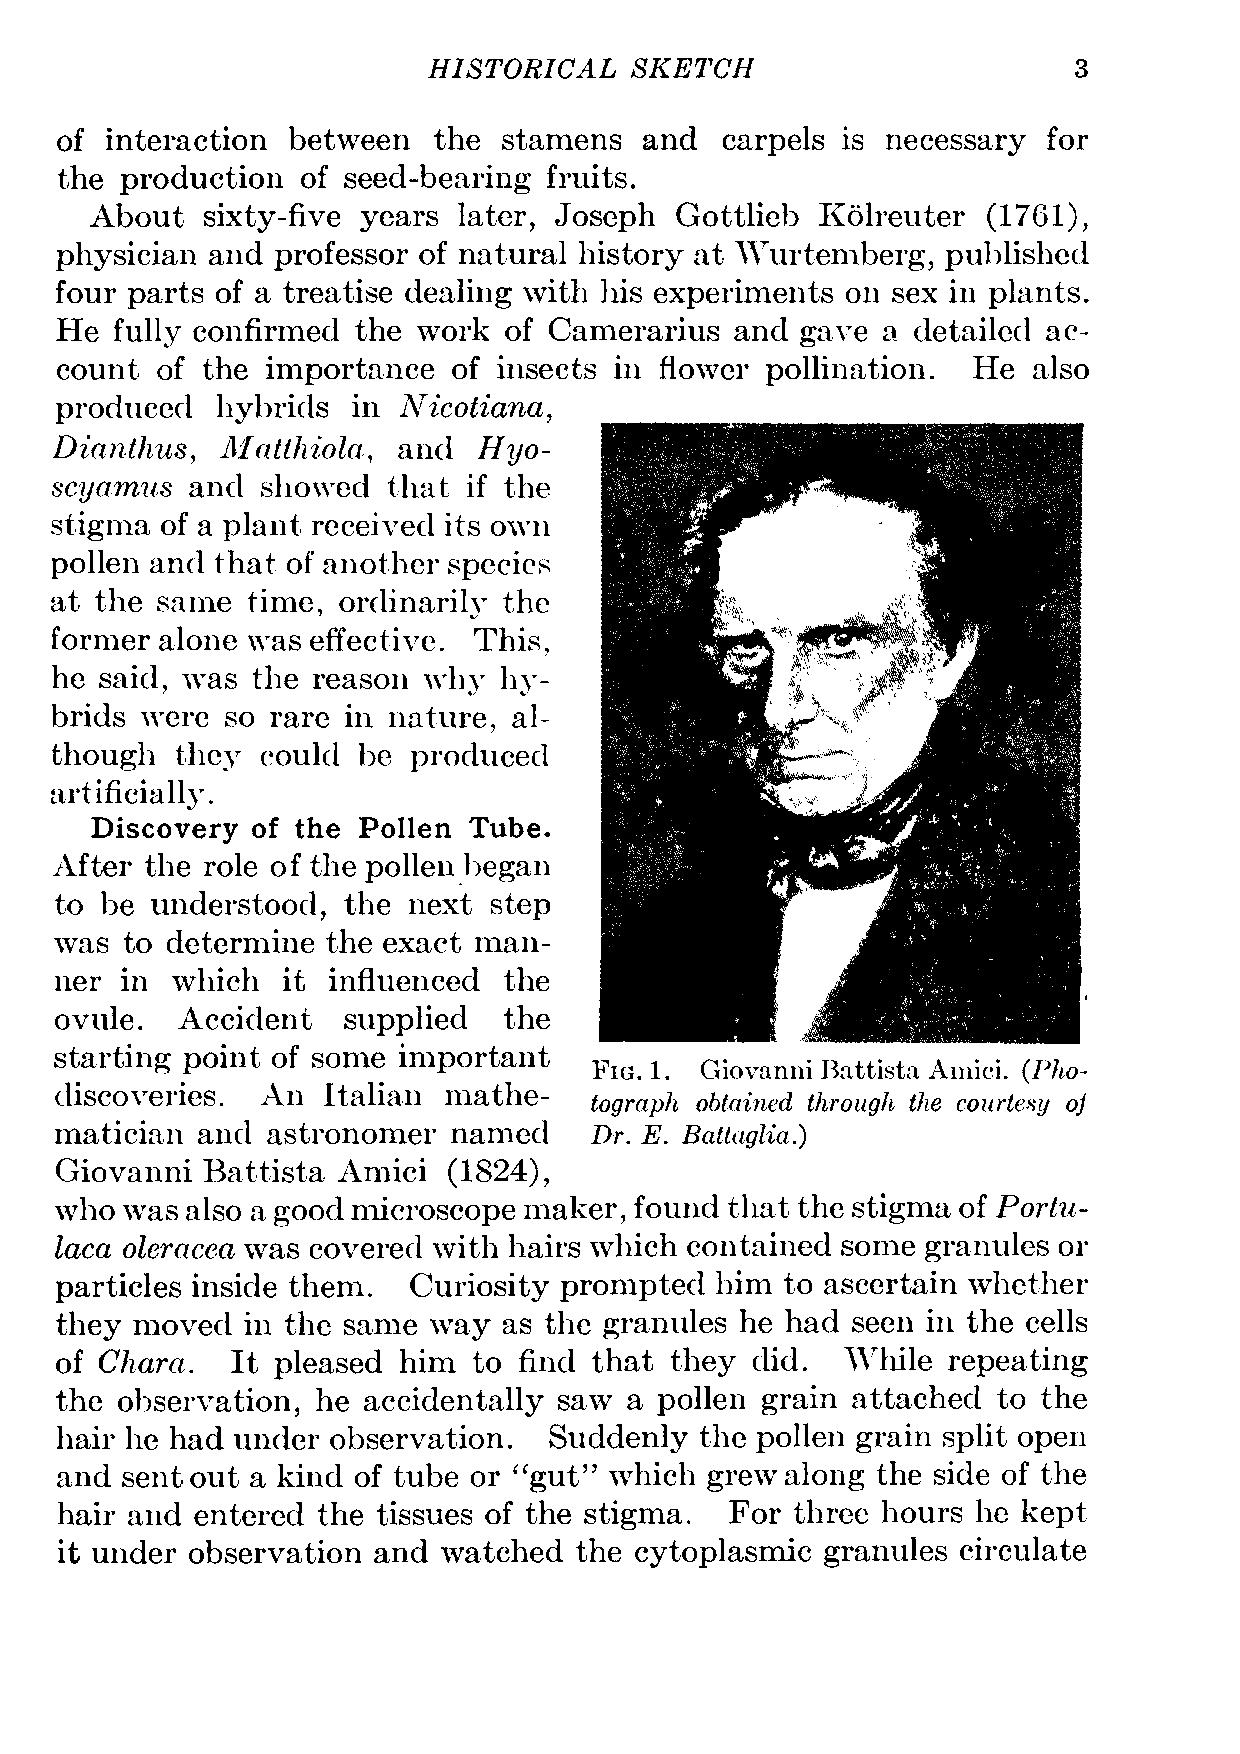content: (43, 123, 1094, 1571)
content_chapter: (425, 52, 752, 82)
content_pagenumber: (1070, 55, 1094, 79)
